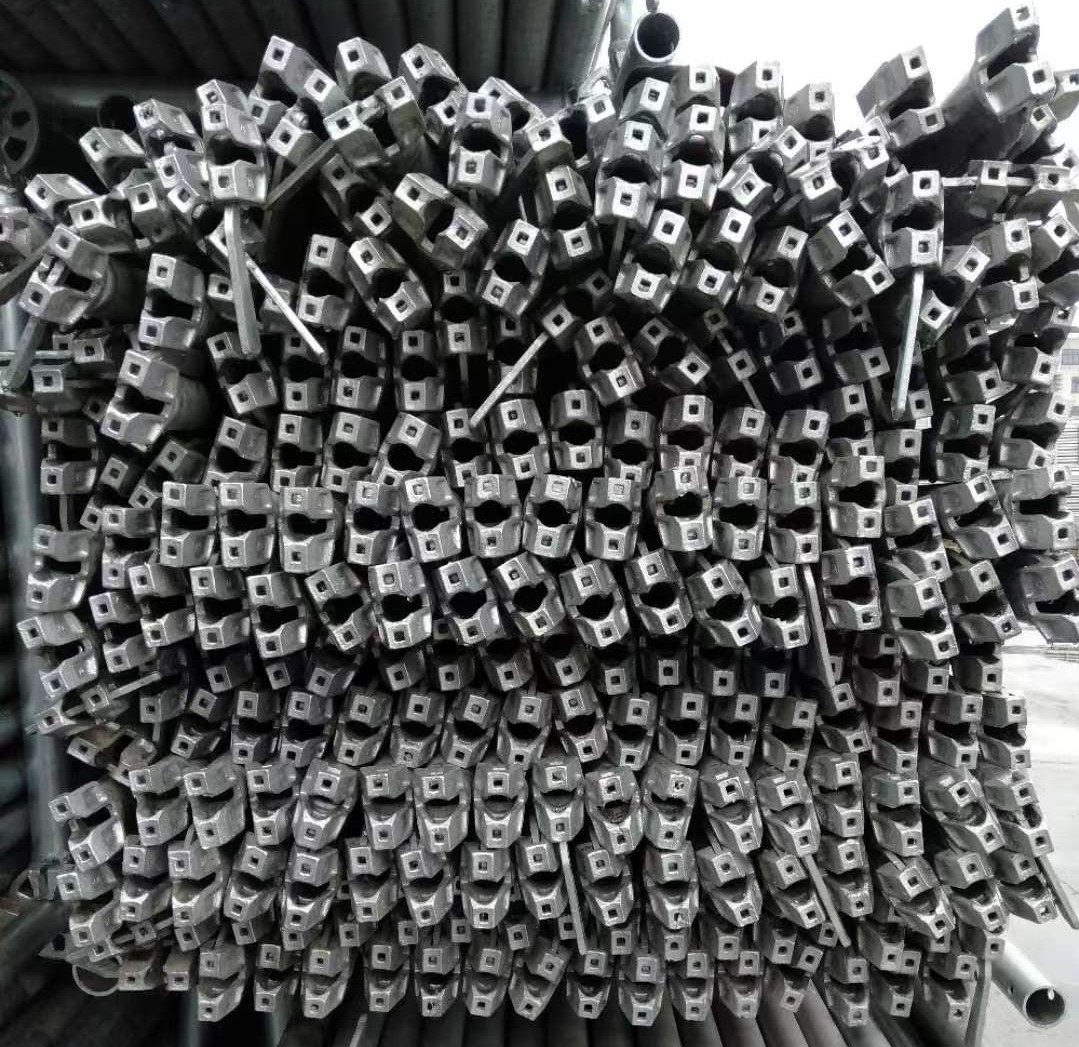THsquare_steel: (390, 178, 483, 255), (912, 244, 992, 328), (350, 240, 425, 329), (822, 206, 895, 297), (990, 3, 1055, 105), (623, 209, 691, 306), (168, 186, 253, 262), (791, 140, 886, 207), (748, 224, 817, 314), (686, 207, 754, 298), (727, 128, 806, 205), (322, 79, 413, 145), (266, 69, 333, 158), (524, 92, 612, 158), (319, 157, 391, 237), (19, 226, 81, 317), (882, 49, 946, 136), (599, 123, 655, 222), (203, 329, 266, 417), (99, 351, 161, 440), (697, 563, 760, 650), (498, 554, 563, 638), (134, 97, 195, 186), (368, 563, 430, 649), (564, 564, 627, 648), (400, 39, 460, 127), (140, 253, 194, 350), (448, 94, 503, 189), (483, 219, 542, 307), (14, 615, 77, 696), (200, 108, 253, 202), (829, 543, 886, 630), (48, 791, 112, 868), (242, 574, 301, 657), (524, 473, 579, 562), (894, 169, 944, 266), (540, 270, 613, 336), (69, 183, 158, 237), (211, 482, 265, 571), (671, 106, 722, 200), (1022, 302, 1079, 385), (308, 569, 365, 652), (243, 35, 296, 123), (633, 553, 692, 632), (760, 775, 819, 854), (583, 316, 639, 399), (893, 863, 954, 939), (401, 478, 455, 562), (942, 779, 1004, 852), (549, 166, 596, 262), (24, 528, 77, 613), (278, 485, 328, 575), (640, 320, 709, 385), (964, 560, 1020, 640), (125, 440, 187, 512), (129, 565, 182, 649), (296, 238, 346, 327), (77, 123, 140, 193), (905, 579, 958, 662), (901, 498, 953, 582), (590, 771, 642, 855), (994, 217, 1039, 314), (186, 565, 236, 652), (321, 410, 374, 492), (441, 562, 494, 644), (293, 768, 347, 848), (704, 773, 758, 853), (664, 468, 715, 552), (736, 53, 782, 146), (970, 159, 1067, 203), (587, 479, 640, 559), (34, 414, 86, 495), (343, 477, 389, 568), (206, 272, 295, 319), (467, 474, 514, 562), (278, 854, 333, 929), (839, 300, 891, 379), (952, 852, 1006, 928), (86, 591, 136, 673), (1014, 392, 1067, 469), (470, 769, 523, 846), (764, 565, 812, 650), (334, 694, 389, 768), (707, 854, 762, 928), (968, 478, 1020, 556), (182, 773, 236, 848), (375, 414, 432, 485), (38, 685, 117, 736), (124, 769, 176, 846), (704, 308, 757, 382), (78, 455, 126, 536), (53, 873, 106, 946), (774, 855, 827, 928), (222, 851, 278, 920), (156, 481, 200, 568), (280, 328, 325, 413), (648, 854, 699, 929), (333, 330, 380, 411), (781, 410, 833, 483), (558, 685, 606, 764), (962, 317, 1006, 403), (437, 267, 479, 357), (417, 773, 464, 853), (648, 770, 695, 850), (164, 852, 214, 927), (878, 778, 926, 856), (395, 329, 440, 412), (723, 477, 768, 560), (780, 481, 825, 564), (512, 951, 566, 1020), (664, 396, 715, 469), (777, 314, 824, 393), (341, 846, 389, 923), (1030, 470, 1076, 550), (497, 403, 544, 481), (203, 414, 253, 487), (584, 851, 633, 925), (607, 695, 654, 772), (243, 768, 290, 845), (270, 412, 315, 492), (828, 841, 876, 916), (536, 765, 583, 841), (1025, 105, 1079, 171), (394, 694, 442, 768), (1005, 781, 1052, 856), (555, 391, 600, 469), (398, 851, 446, 924), (492, 311, 533, 396), (114, 848, 160, 923), (937, 689, 980, 769), (363, 772, 407, 850), (63, 741, 136, 788), (846, 456, 886, 541), (1040, 214, 1079, 301), (1038, 557, 1079, 639), (724, 409, 772, 479), (94, 508, 134, 591), (610, 407, 654, 482), (448, 698, 495, 768), (828, 684, 875, 754), (522, 848, 568, 919), (464, 853, 508, 927), (825, 758, 866, 837), (772, 697, 815, 772), (443, 410, 487, 483), (834, 386, 879, 457), (500, 697, 544, 768), (1010, 853, 1054, 924), (798, 80, 836, 162), (719, 695, 760, 770), (950, 406, 992, 479), (569, 952, 613, 1021), (174, 689, 217, 759), (993, 695, 1033, 770), (87, 923, 158, 965), (337, 35, 384, 98), (278, 692, 318, 766), (668, 693, 708, 766), (625, 958, 666, 1029), (777, 949, 823, 1012), (195, 951, 235, 1023), (23, 172, 75, 227), (836, 955, 874, 1030), (246, 943, 286, 1014), (465, 948, 506, 1017), (232, 693, 271, 765), (301, 953, 344, 1017), (901, 343, 936, 420), (728, 951, 767, 1019), (890, 432, 926, 505), (418, 949, 455, 1019), (677, 953, 714, 1021), (117, 962, 193, 994), (483, 643, 533, 691), (367, 945, 401, 1013), (871, 637, 904, 707), (889, 952, 923, 1019), (307, 648, 356, 694), (141, 662, 175, 727), (890, 702, 922, 771), (942, 955, 975, 1021), (651, 637, 690, 691), (74, 332, 139, 364), (705, 646, 743, 698), (378, 650, 423, 693), (756, 649, 795, 698), (547, 638, 587, 685), (597, 648, 636, 696), (437, 644, 472, 693), (199, 652, 240, 693), (974, 641, 1006, 689)
circle_steel: (623, 8, 684, 65), (1018, 980, 1069, 1031), (69, 964, 118, 998)
